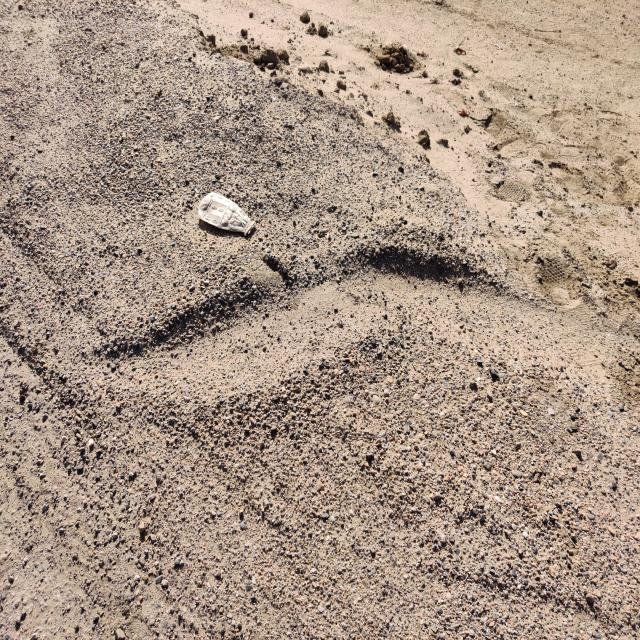litter: (195, 190, 253, 238)
